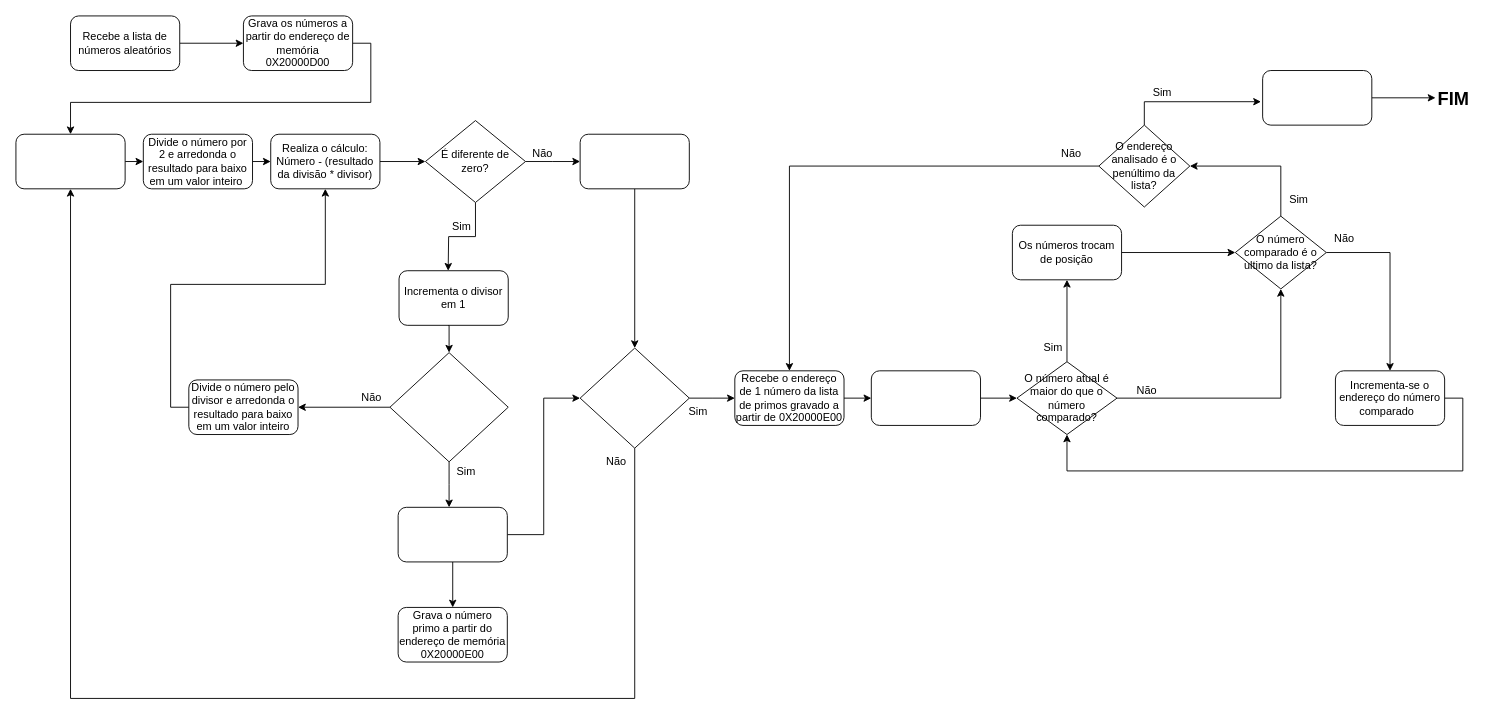
This 1497x722 diagram has some shape labels left out. The centre of each missing label's shape, as x and y in pixels:
Acabou a lista de números?: pixel 634 397
Compara com o número presente no próximo endereço: pixel 925 397
Não é primo: pixel 634 161
Números ordenados a partir da memória 0X20000E00: pixel 1317 97
O divisor é igual ao numero analisado?: pixel 448 407
Recebe 1 número da memória a partir de 0X2000D00: pixel 70 161
É primo: pixel 452 534
